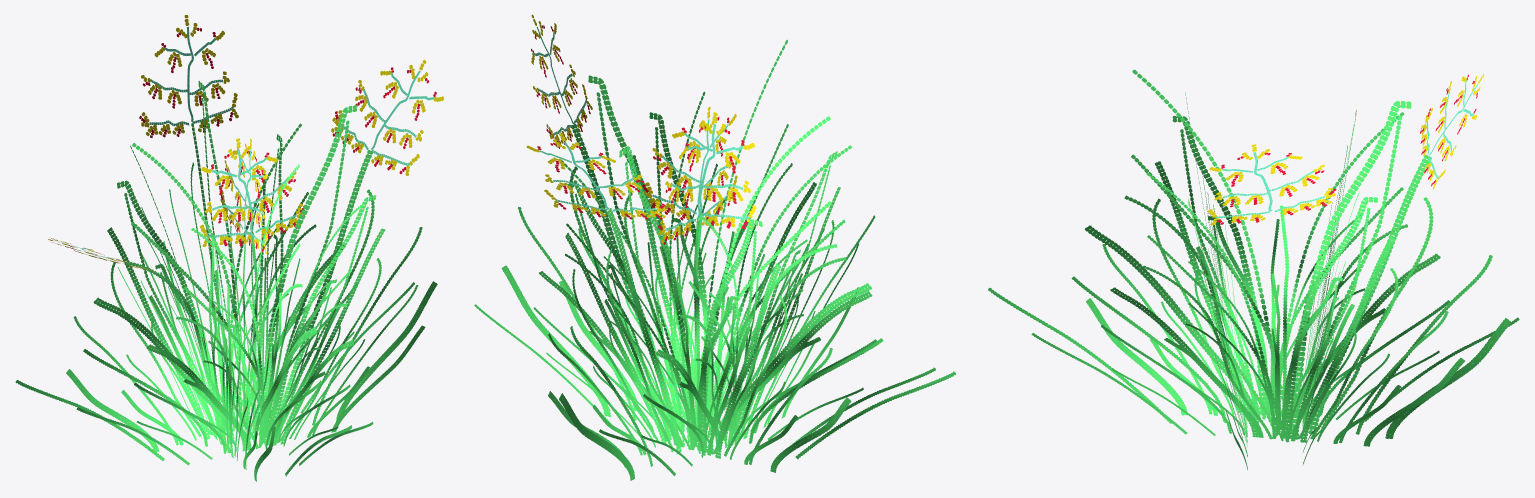
File: wild-rice.glb
The picture shows the model from 3 angles, left to right: view 1: azimuth 30°, elevation 25°; view 2: azimuth 150°, elevation 25°; view 3: azimuth 270°, elevation 25°; orthographic projection. The views are drawn at different scales.
Parts seen in each view (by area): view 1: wild-rice; view 2: wild-rice; view 3: wild-rice.
Boxes of the visible parts, x1,y1,x2,y2 form: wild-rice: [15, 15, 443, 481]; wild-rice: [474, 14, 955, 480]; wild-rice: [988, 69, 1519, 470].
Size of the model in its own units: 4.03 by 3.19 by 4.05.
Materials: 1 (1 with a texture image).
